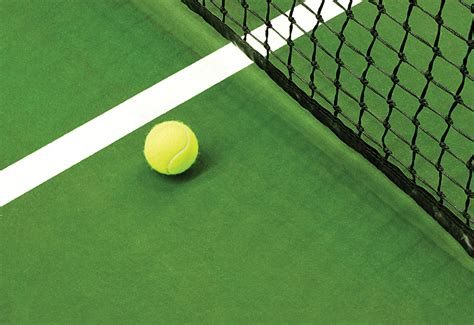tennis_ball: (142, 119, 200, 176)
